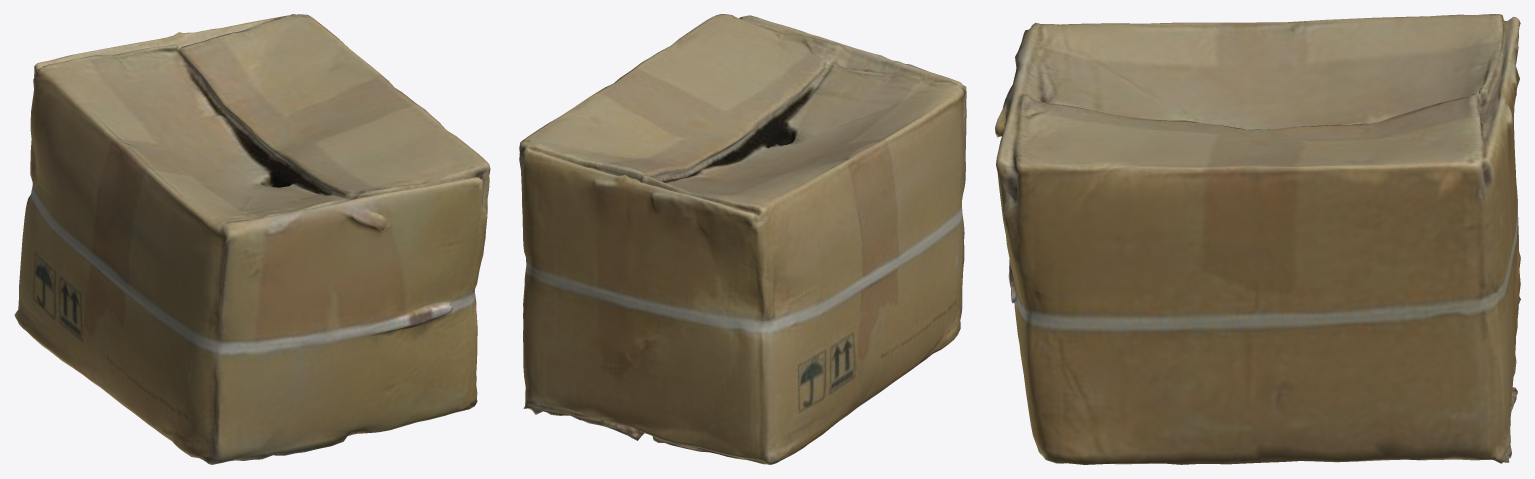
File: caixa_papelao.glb
3 renders of one model, left to right at view 1: azimuth 30°, elevation 25°; view 2: azimuth 150°, elevation 25°; view 3: azimuth 270°, elevation 25°, orthographic. The views are drawn at different scales.
Parts seen in each view (by area): view 1: caixa_papelao; view 2: caixa_papelao; view 3: caixa_papelao.
Part boxes in pixels (x1,y1,x2,y2): caixa_papelao: (14, 14, 490, 464); caixa_papelao: (519, 14, 966, 464); caixa_papelao: (995, 14, 1520, 464).
Bounding box in the file's own units: 0.3872 × 0.3418 × 0.5159.
Materials: 1 (1 with a texture image).
